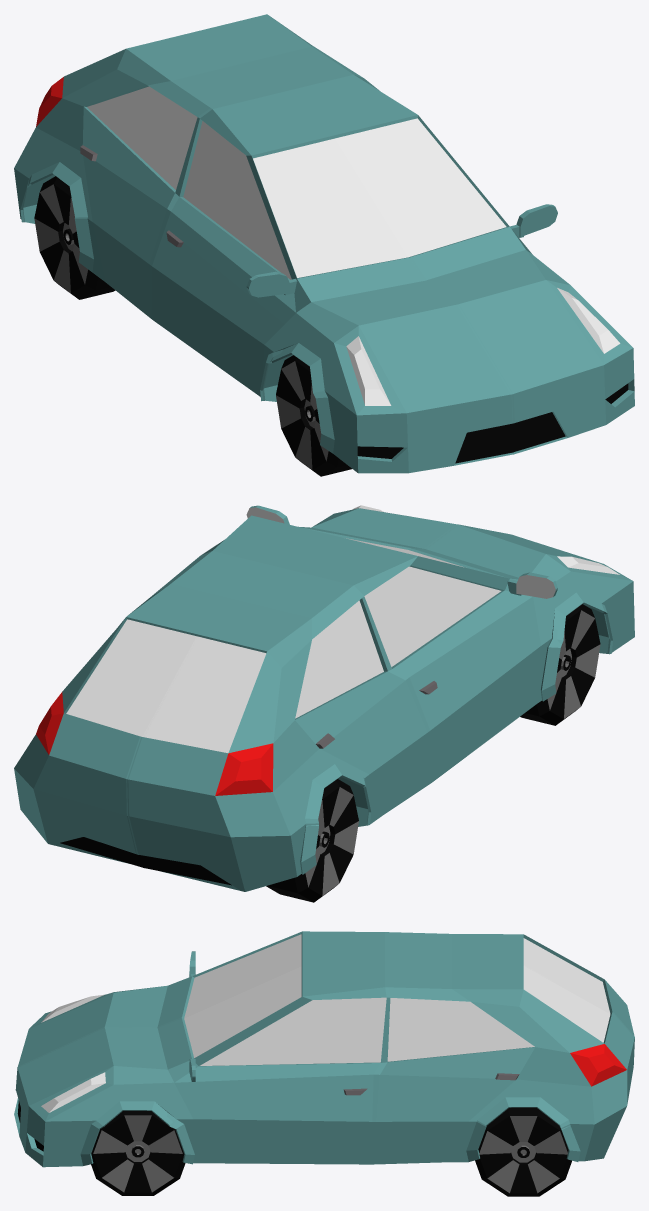
3 views of the same model, one above another, from view 1: azimuth 30°, elevation 25°; view 2: azimuth 150°, elevation 25°; view 3: azimuth 270°, elevation 25° (orthographic). The views are drawn at different scales.
Parts seen in each view (by area): view 1: Body, R_R_Wheel, F_R_Wheel; view 2: Body, R_R_Wheel, F_R_Wheel; view 3: Body, R_L_Wheel, F_L_Wheel.
Boxes of the visible parts, box(x1,y1,x2,y2) form: Body: box(14, 14, 634, 473); R_R_Wheel: box(34, 176, 115, 299); F_R_Wheel: box(276, 355, 351, 476); Body: box(14, 505, 634, 891); R_R_Wheel: box(266, 779, 358, 902); F_R_Wheel: box(520, 604, 600, 725); Body: box(14, 931, 634, 1167); R_L_Wheel: box(475, 1107, 571, 1196); F_L_Wheel: box(91, 1111, 185, 1195).
Bounding box in the file's own units: 293 × 211 × 635.
